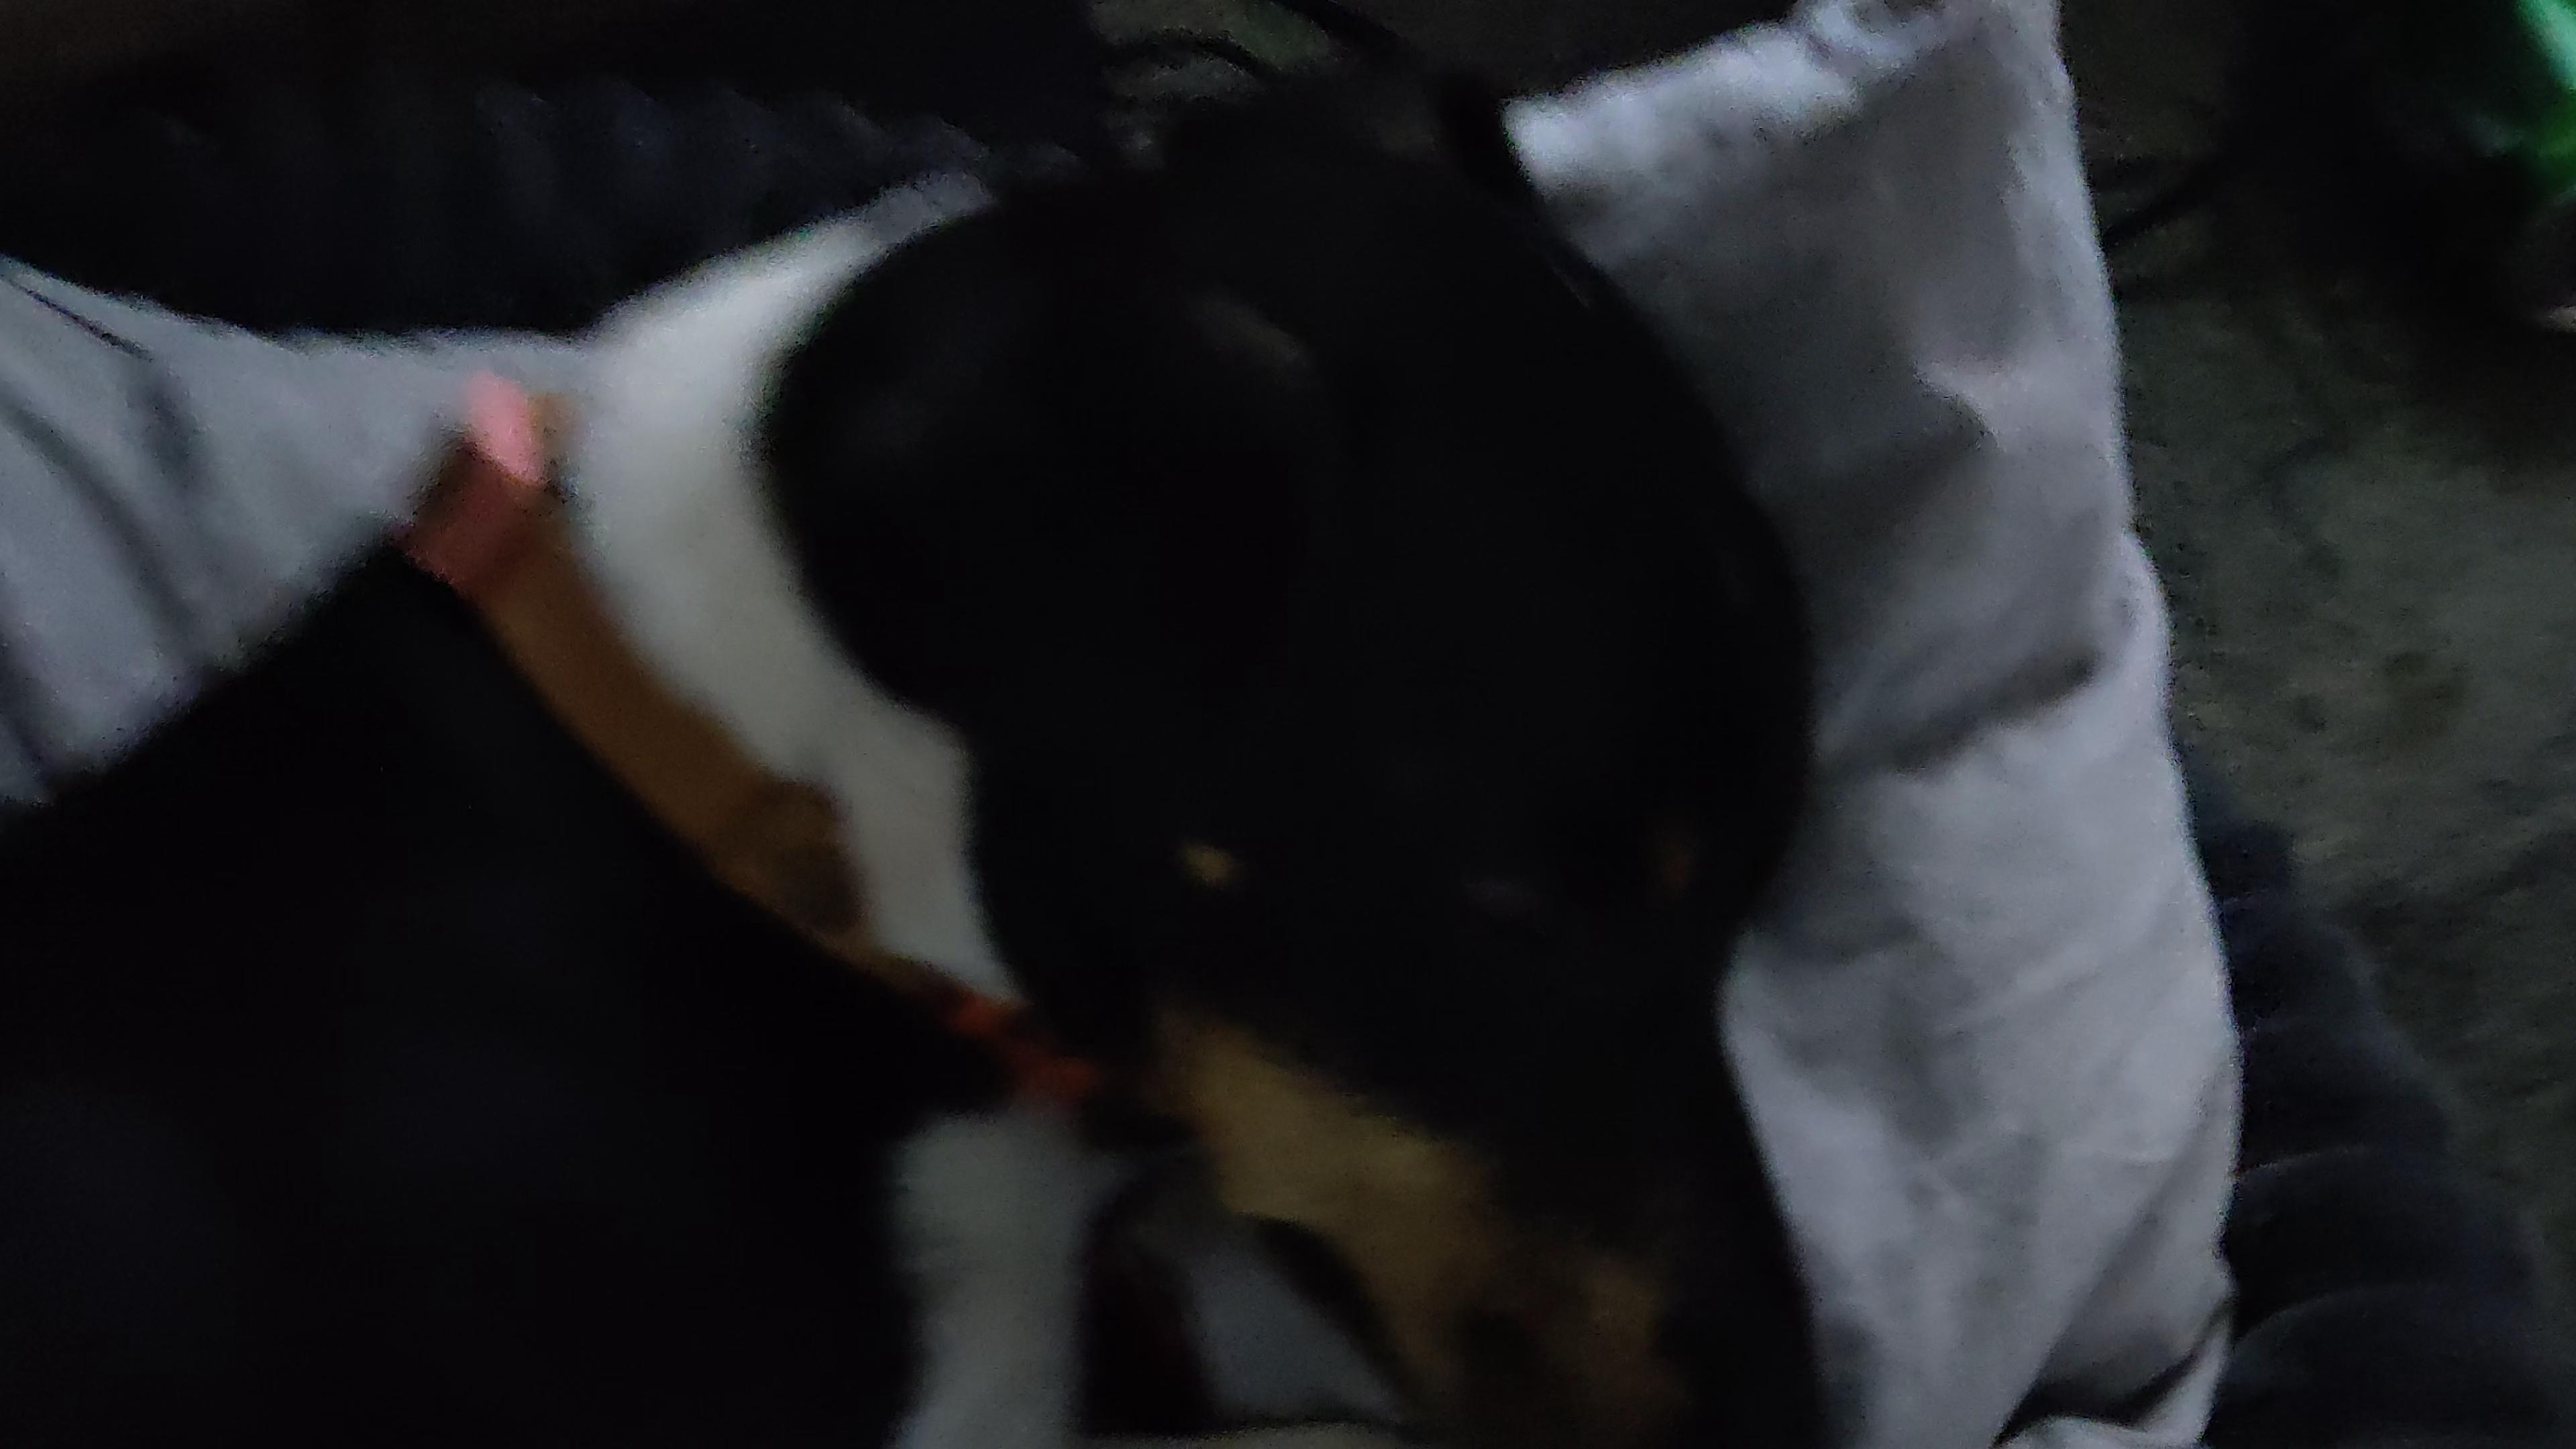Dog: (0, 34, 1893, 1449)
